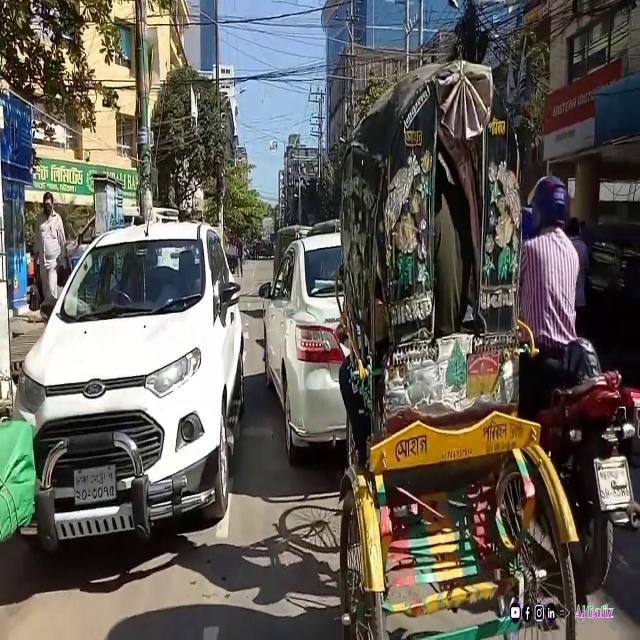white: (14, 216, 252, 555), (262, 232, 401, 465)
